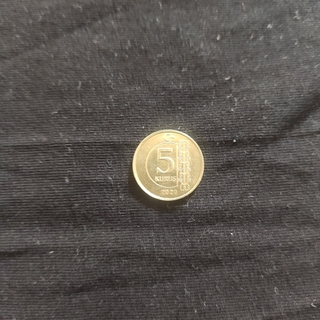5KURUS: (130, 126, 207, 204)
